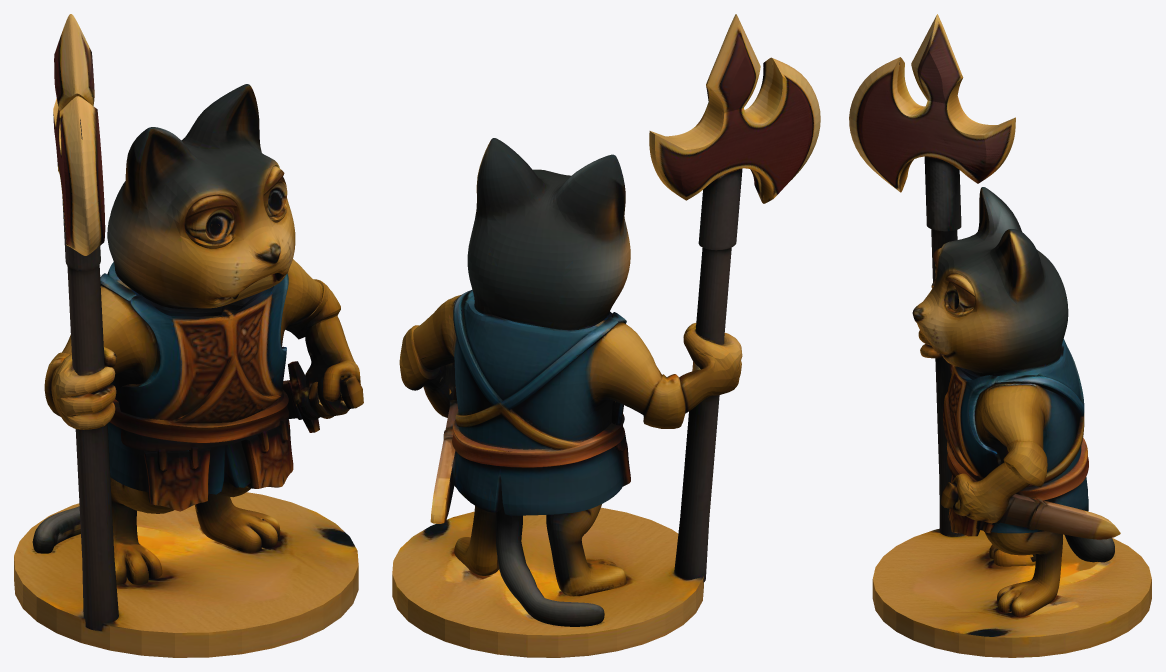
Rendered from cat.glb.
3 views of the same model, side by side, from view 1: azimuth 30°, elevation 25°; view 2: azimuth 150°, elevation 25°; view 3: azimuth 270°, elevation 25° (orthographic). The views are drawn at different scales.
Visible parts, largest first — view 1: tripo_node_16db03b5-ddf9-431e-a5d2-8689b0f12c35; view 2: tripo_node_16db03b5-ddf9-431e-a5d2-8689b0f12c35; view 3: tripo_node_16db03b5-ddf9-431e-a5d2-8689b0f12c35.
Part boxes in pixels (<box>): tripo_node_16db03b5-ddf9-431e-a5d2-8689b0f12c35: <box>14,14,363,657</box>; tripo_node_16db03b5-ddf9-431e-a5d2-8689b0f12c35: <box>392,14,820,657</box>; tripo_node_16db03b5-ddf9-431e-a5d2-8689b0f12c35: <box>849,14,1151,657</box>.
Bounding box in the file's own units: 0.5859 × 1 × 0.5267.
1 material, 1 textured.
